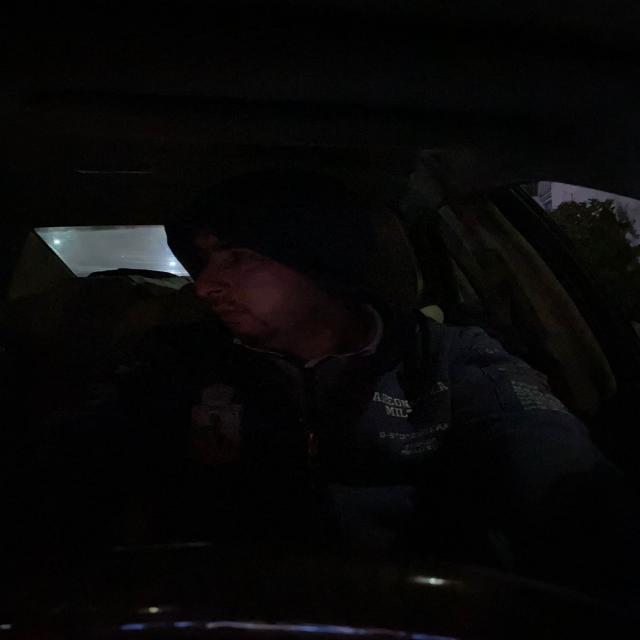LeftRight: (174, 176, 384, 357)
